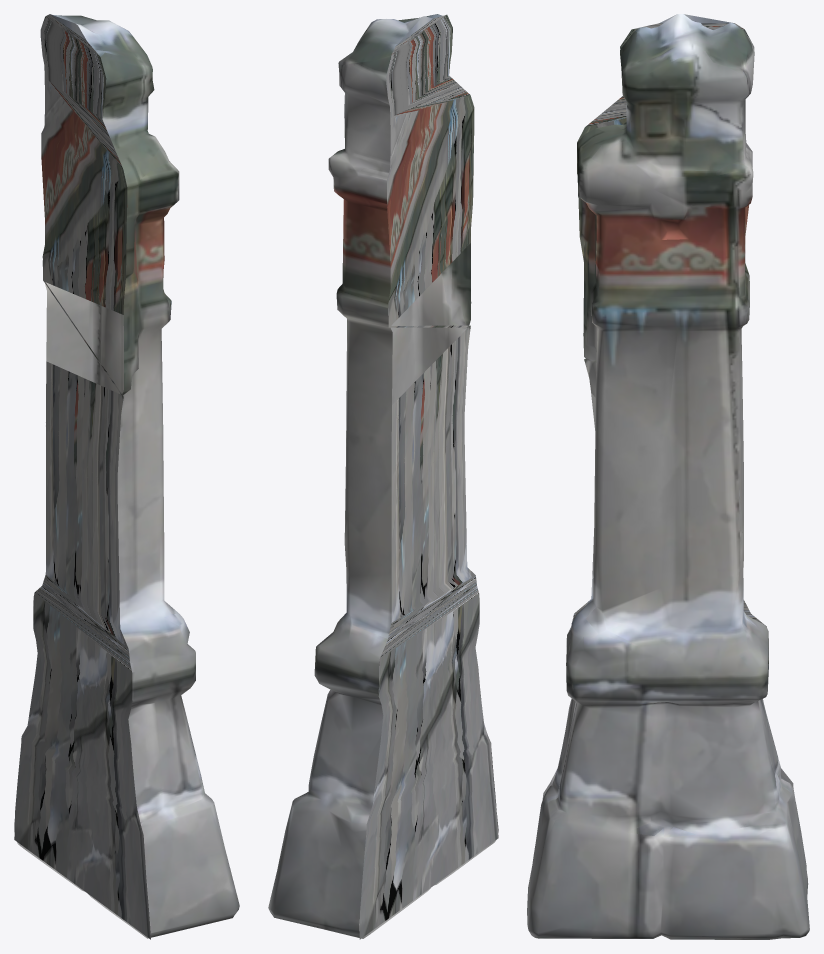
Rendered from SM_Tripo_FrostRampartEndR.glb.
3 views of the same model, side by side, from view 1: azimuth 30°, elevation 25°; view 2: azimuth 150°, elevation 25°; view 3: azimuth 270°, elevation 25° (orthographic). The views are drawn at different scales.
Parts seen in each view (by area): view 1: SM_Tripo_FrostRampartEndR_LOD0; view 2: SM_Tripo_FrostRampartEndR_LOD0; view 3: SM_Tripo_FrostRampartEndR_LOD0.
Part boxes in pixels (x1,y1,x2,y2): SM_Tripo_FrostRampartEndR_LOD0: (14, 14, 239, 939); SM_Tripo_FrostRampartEndR_LOD0: (268, 14, 498, 939); SM_Tripo_FrostRampartEndR_LOD0: (527, 14, 809, 939).
Size of the model in its own units: 1.03 by 8.76 by 2.54.
Materials: 1 (1 with a texture image).
